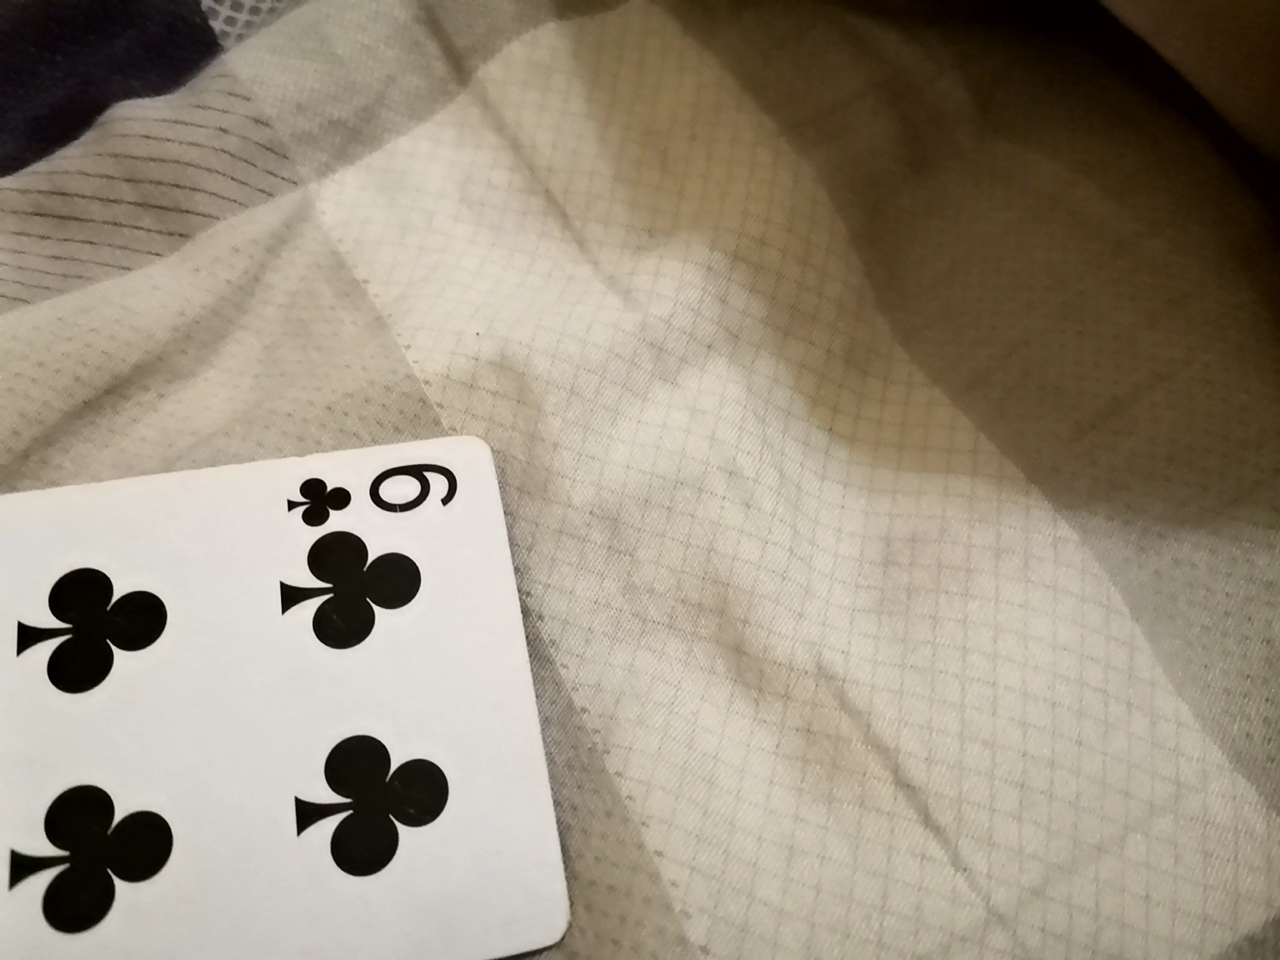mh 6: (1, 466, 559, 954)
